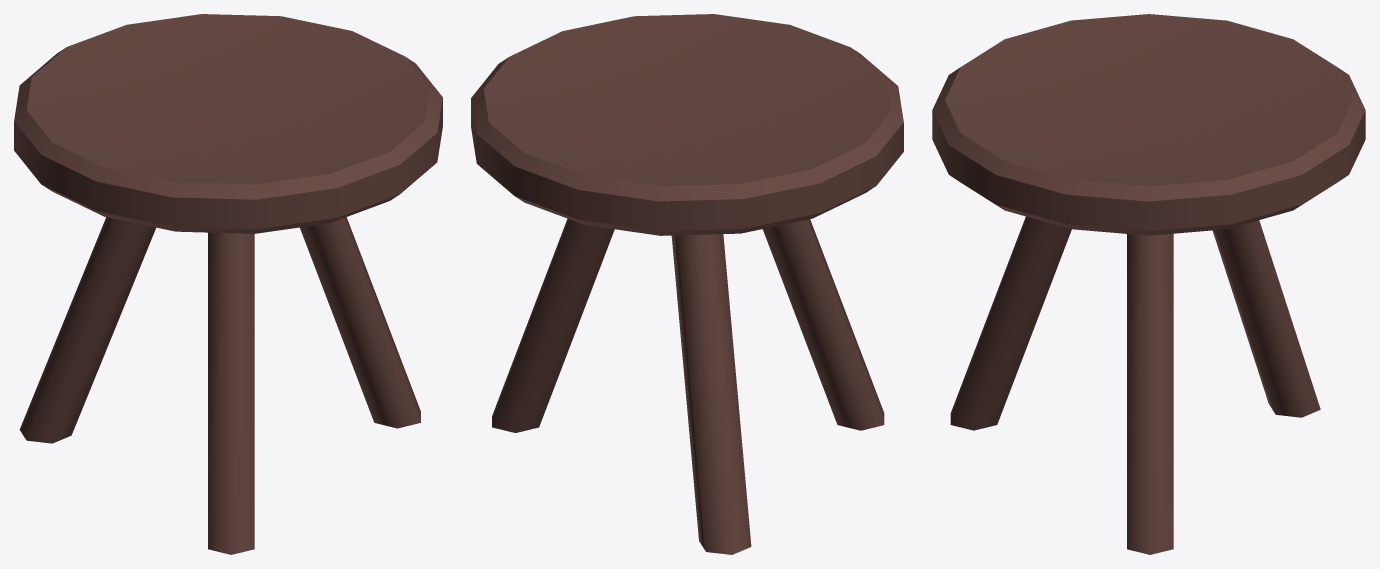
The model's file is Stool.fbx.
3 views of the same model, side by side, from view 1: azimuth 30°, elevation 25°; view 2: azimuth 150°, elevation 25°; view 3: azimuth 270°, elevation 25° (orthographic).
Parts seen in each view (by area): view 1: Stool; view 2: Stool; view 3: Stool.
Boxes of the visible parts, x1,y1,x2,y2 form: Stool: (14, 14, 442, 554); Stool: (471, 14, 903, 554); Stool: (932, 14, 1365, 554).
Size of the model in its own units: 0.00459 by 0.00415 by 0.00452.
